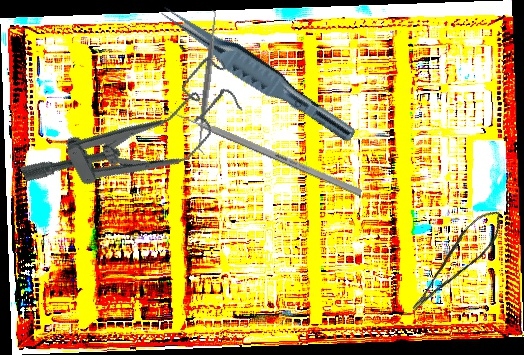Micro Scissor: (395, 203, 514, 315)
Pusher: (158, 103, 363, 197)
Spatula Surgical: (190, 9, 225, 155)
Speculum: (11, 51, 256, 228)
Tissue Forceps: (152, 0, 364, 145)
